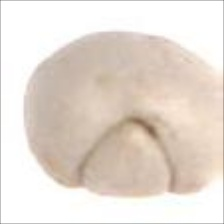L5: (75, 114, 180, 202)
L6: (21, 29, 224, 201)
